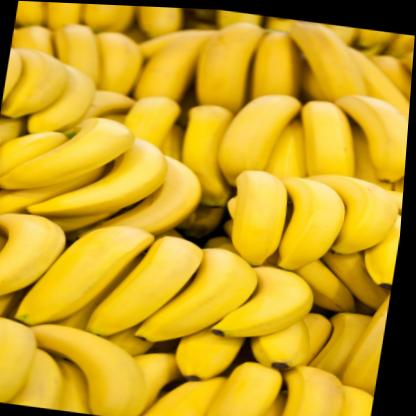banana: (0, 103, 213, 247), (219, 70, 412, 205), (218, 154, 407, 282), (4, 211, 163, 340), (82, 226, 219, 352), (134, 235, 272, 355), (20, 318, 169, 416), (208, 252, 322, 349)
